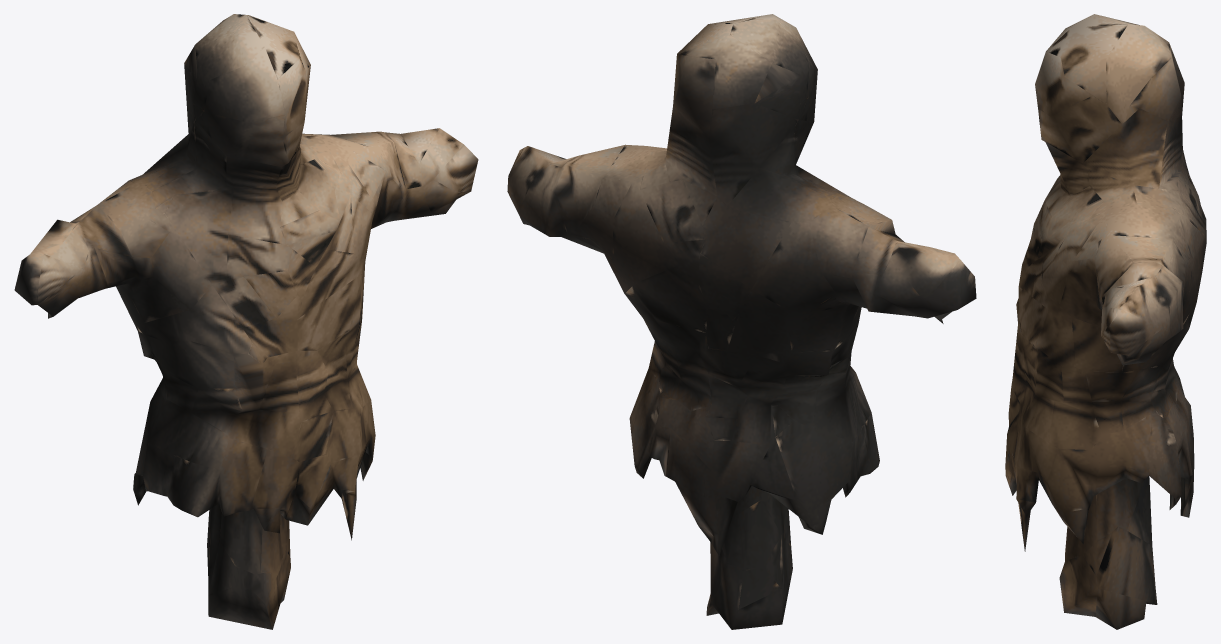
Rendered from training_dummy_decayed.glb.
3 views of the same model, side by side, from view 1: azimuth 30°, elevation 25°; view 2: azimuth 150°, elevation 25°; view 3: azimuth 270°, elevation 25° (orthographic).
Bounding box in the file's own units: 1.59 × 1.99 × 0.613.
Materials: 1 (1 with a texture image).
